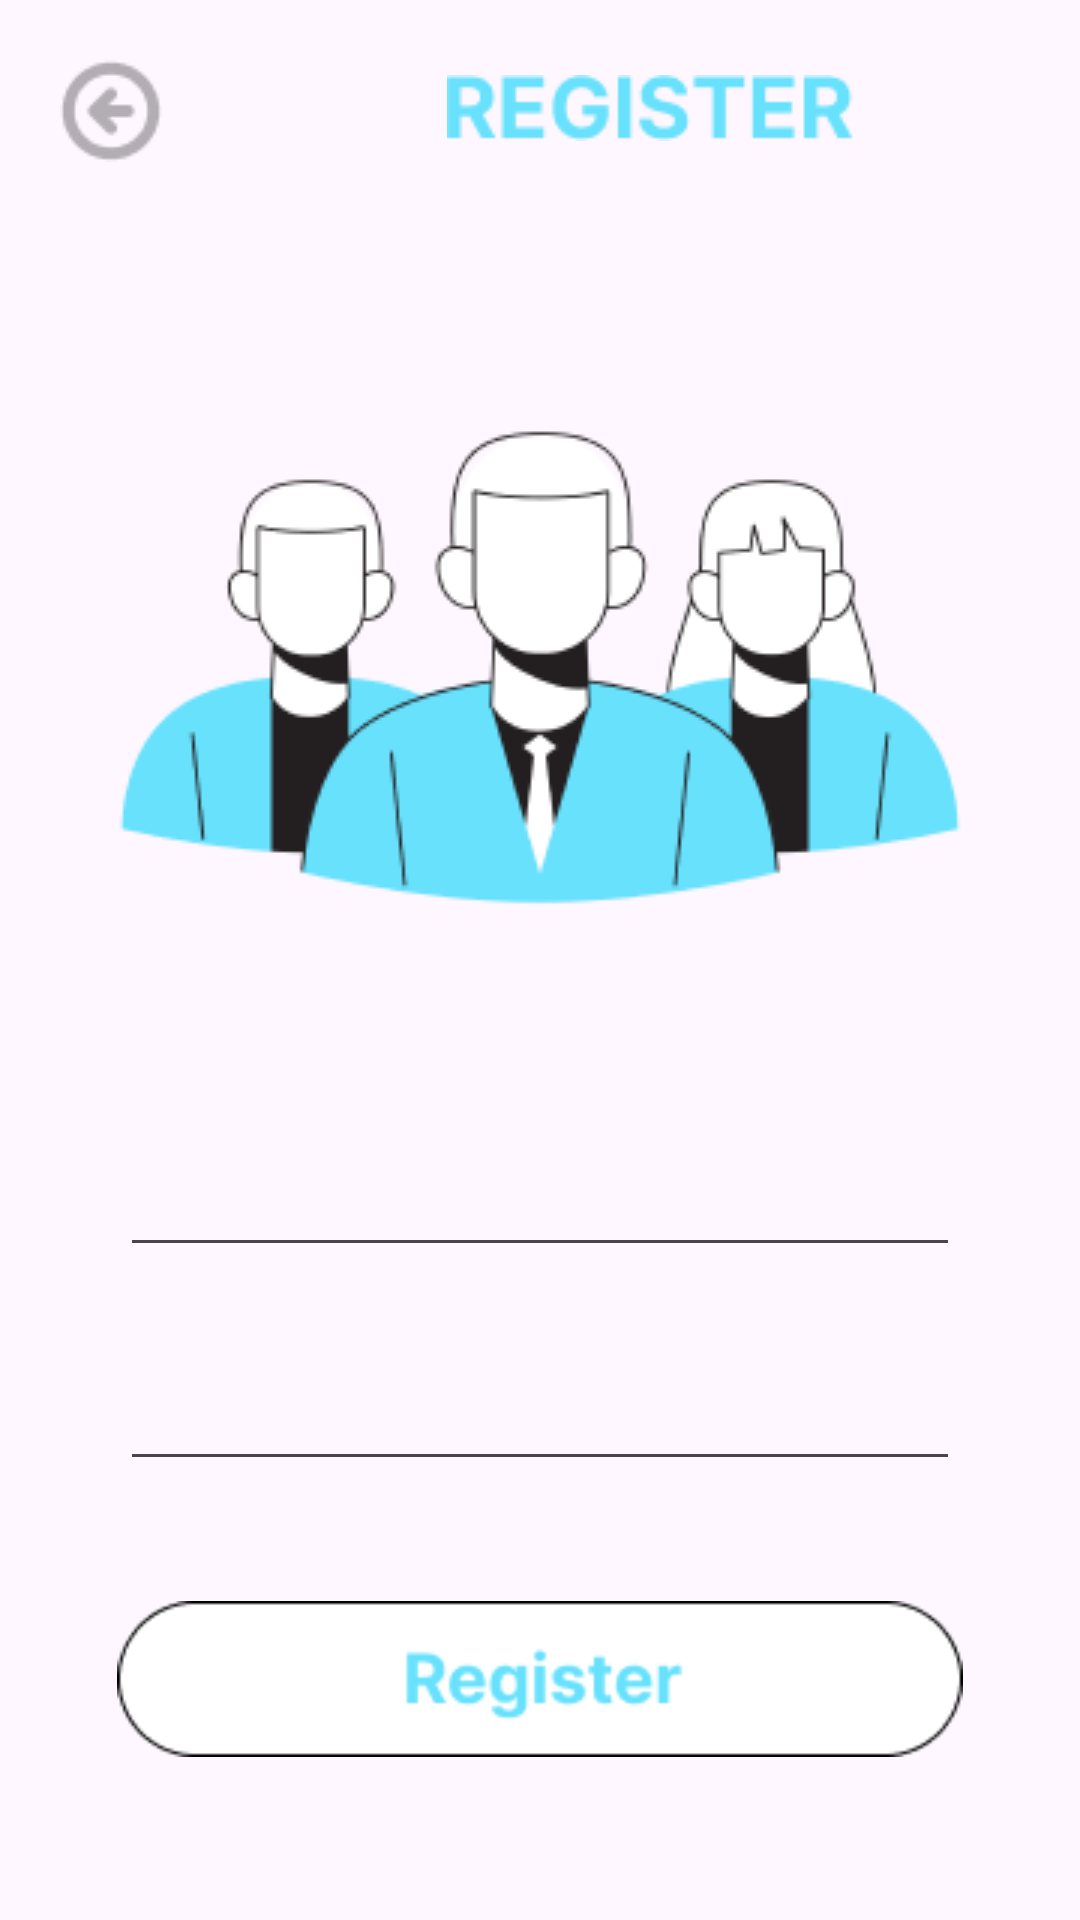

Named icons in this screenshot (1080 x 1920) and their centers, (x=x, y=y):
arrow: (x=111, y=111)
